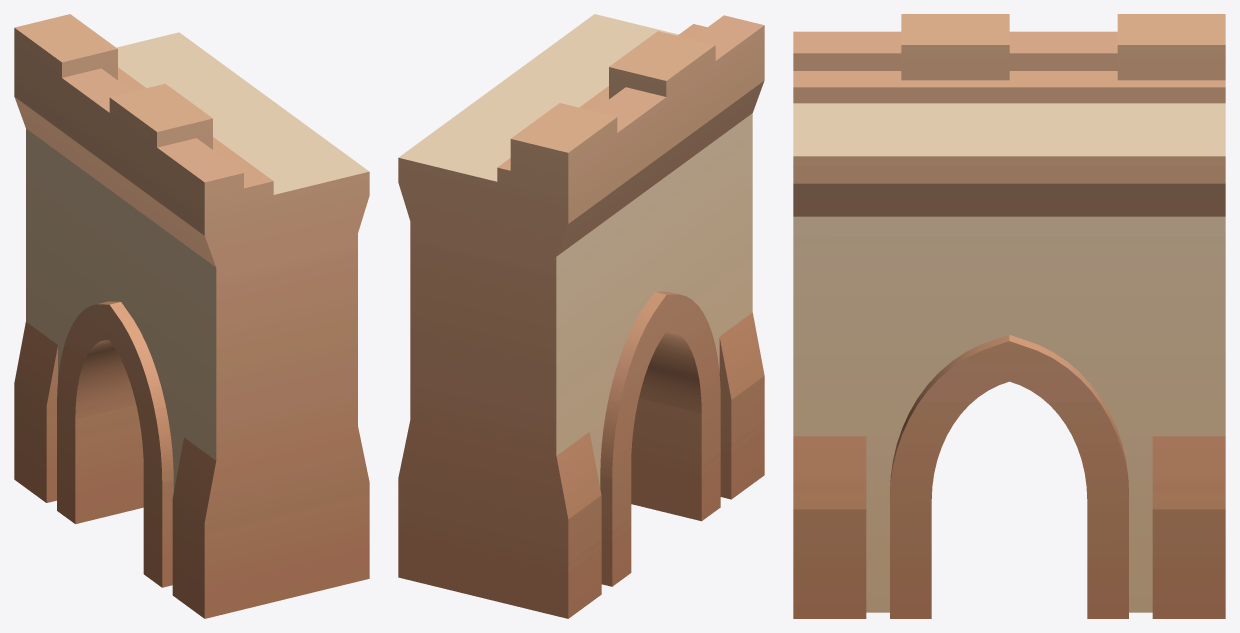
File: kit_wall_doorway.glb
3 renders of one model, left to right at view 1: azimuth 30°, elevation 25°; view 2: azimuth 150°, elevation 25°; view 3: azimuth 270°, elevation 25°, orthographic. The views are drawn at different scales.
Visible parts, largest first — view 1: wall-doorway; view 2: wall-doorway; view 3: wall-doorway.
Boxes of the visible parts, x1,y1,x2,y2 form: wall-doorway: (14, 14, 369, 618); wall-doorway: (398, 14, 764, 618); wall-doorway: (793, 14, 1225, 618).
Bounding box in the file's own units: 2.29 × 6 × 4.58.
Materials: 1 (1 with a texture image).
